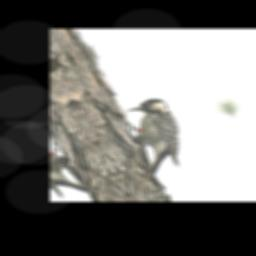Woodpecker: (111, 96, 201, 176)
